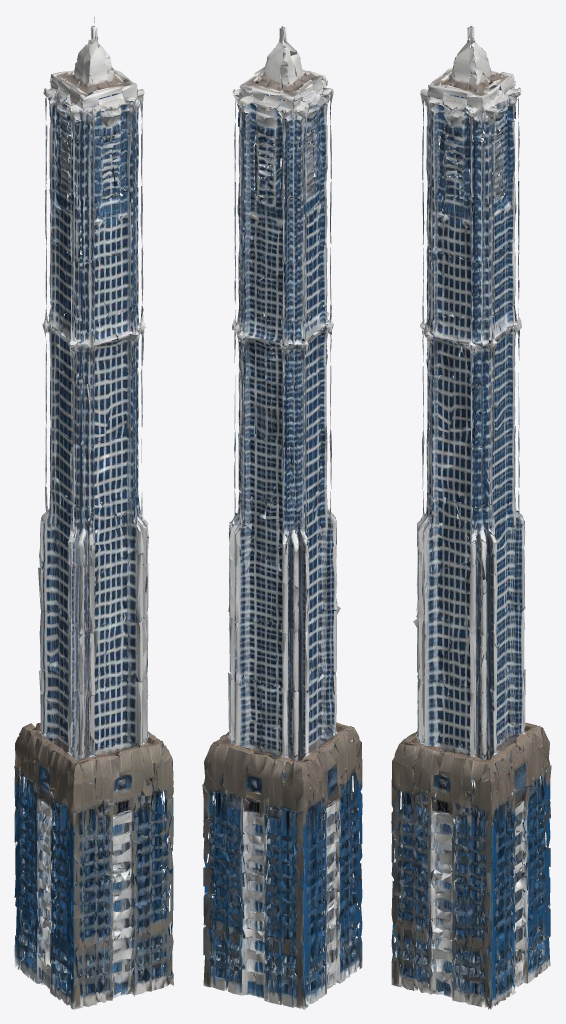
File: the-torch.glb
3 views of the same model, side by side, from view 1: azimuth 30°, elevation 25°; view 2: azimuth 150°, elevation 25°; view 3: azimuth 330°, elevation 25° (orthographic).
Visible parts, largest first — view 1: Mesh_0; view 2: Mesh_0; view 3: Mesh_0.
Part boxes in pixels (box(x1,y1,x2,y2)): Mesh_0: box(14, 17, 173, 1009); Mesh_0: box(202, 26, 362, 1009); Mesh_0: box(391, 26, 551, 1009).
Size of the model in its own units: 40 by 347 by 40.
Materials: 1 (1 with a texture image).
